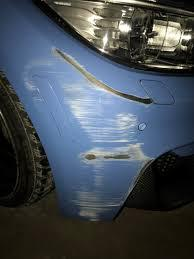front-bumper-dent: (6, 34, 181, 243)
